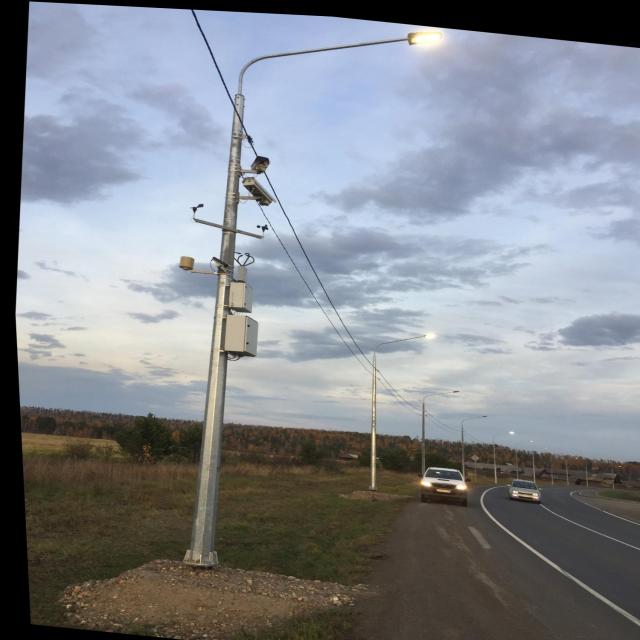pole: (184, 222, 244, 576)
